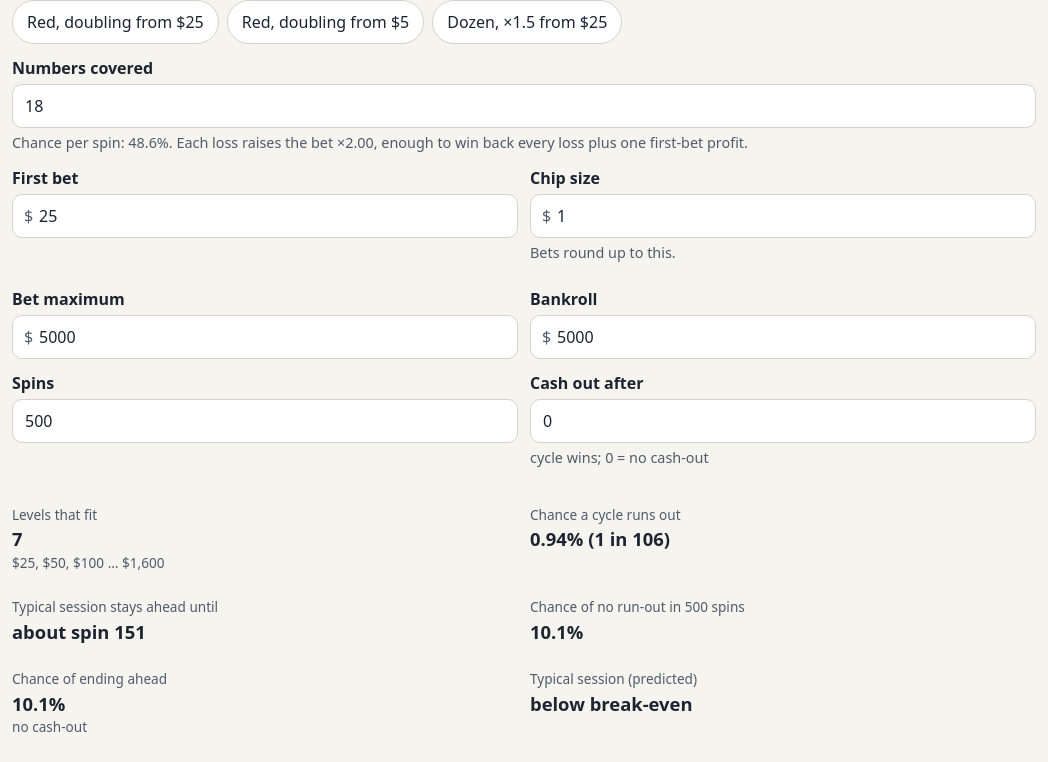
Test: LadderCalculator › invalid coverage shows the error and keeps the last result, greyed
Replace the text in the field labelled "Numbers covered" with "40" at (524, 106), box [12,84,1036,128]
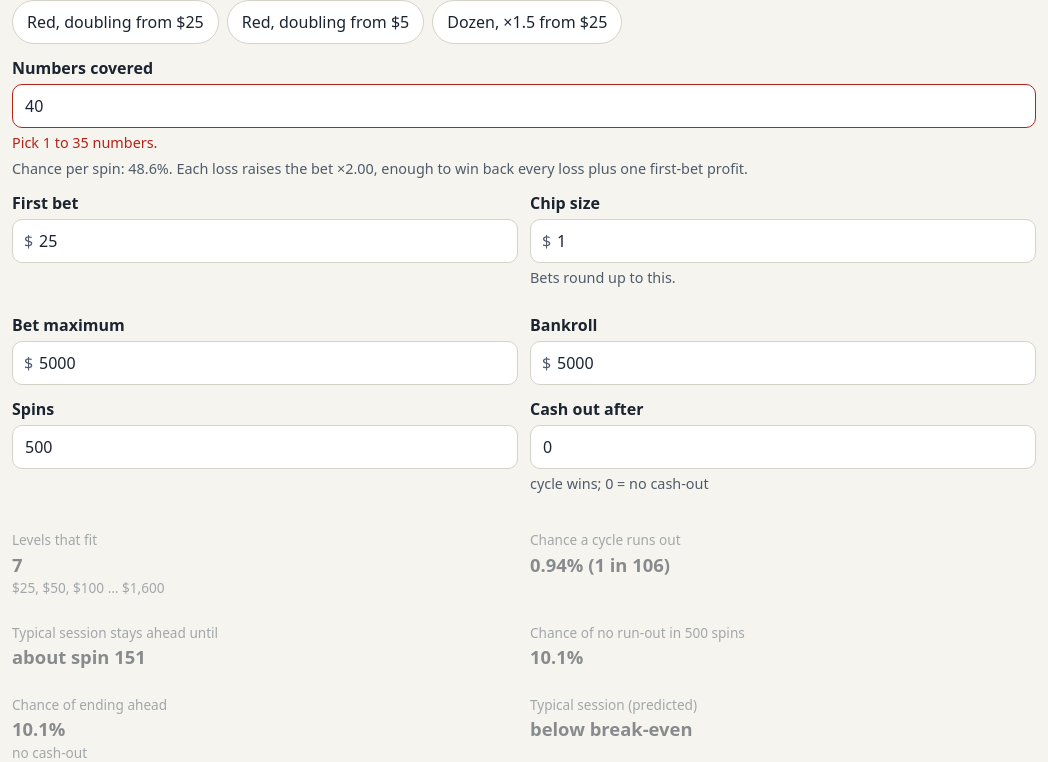
Check: the message with id "calc-c-err" reads "Pick 1 to 35 numbers.", box [12,133,158,152]
Replace the text in the field labelled "Numbers covered" with "12" at (524, 106), box [12,84,1036,128]
(page scrolled)
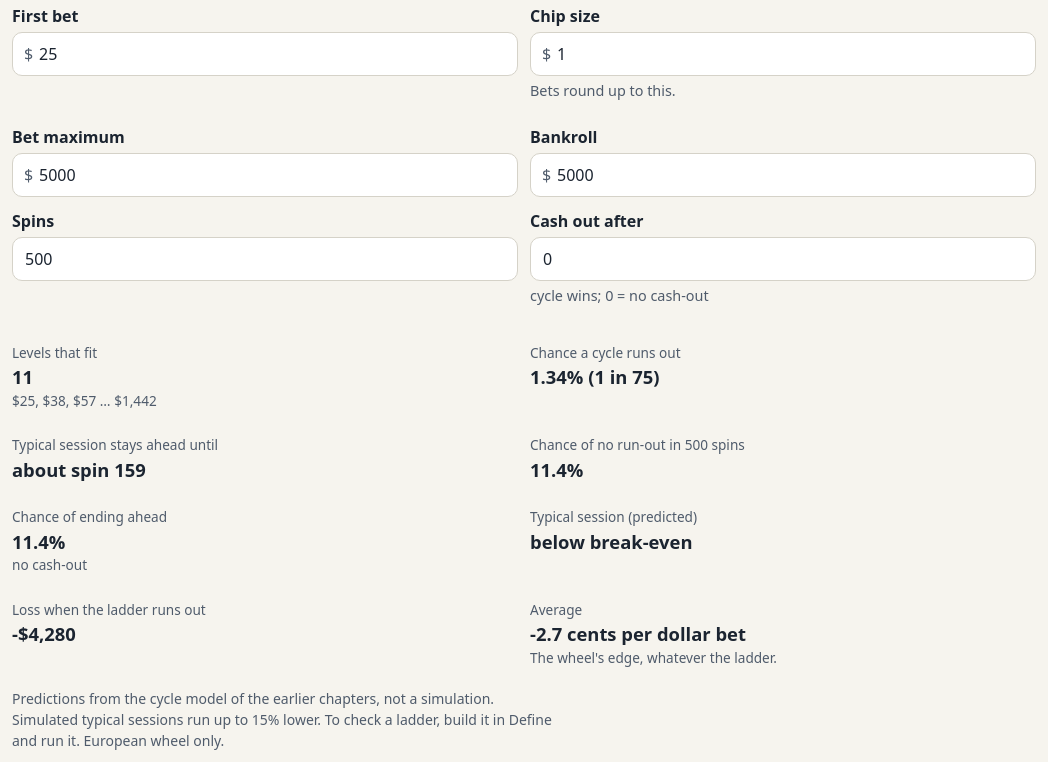
Check: the message with id "calc-c-err" is gone
